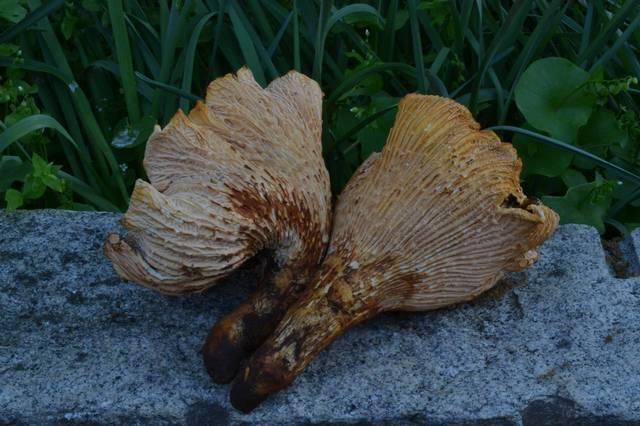Edible Mushroom: (227, 90, 560, 413), (102, 64, 334, 384)
